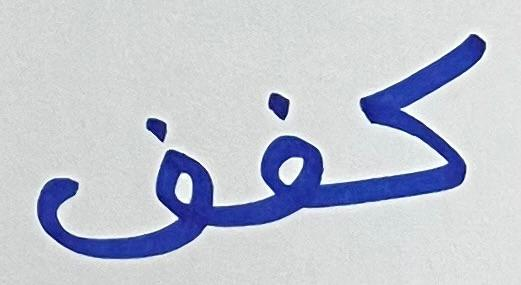feh: (37, 116, 227, 262), (231, 79, 338, 236)
kaf: (342, 21, 488, 214)
